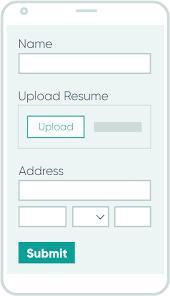button: (28, 117, 87, 139), (19, 243, 75, 264)
dropdown: (73, 207, 110, 228)
input: (19, 54, 152, 75), (20, 181, 152, 202), (20, 208, 67, 228), (115, 207, 152, 227)
label: (17, 92, 111, 104), (20, 165, 67, 176), (19, 41, 56, 51)
